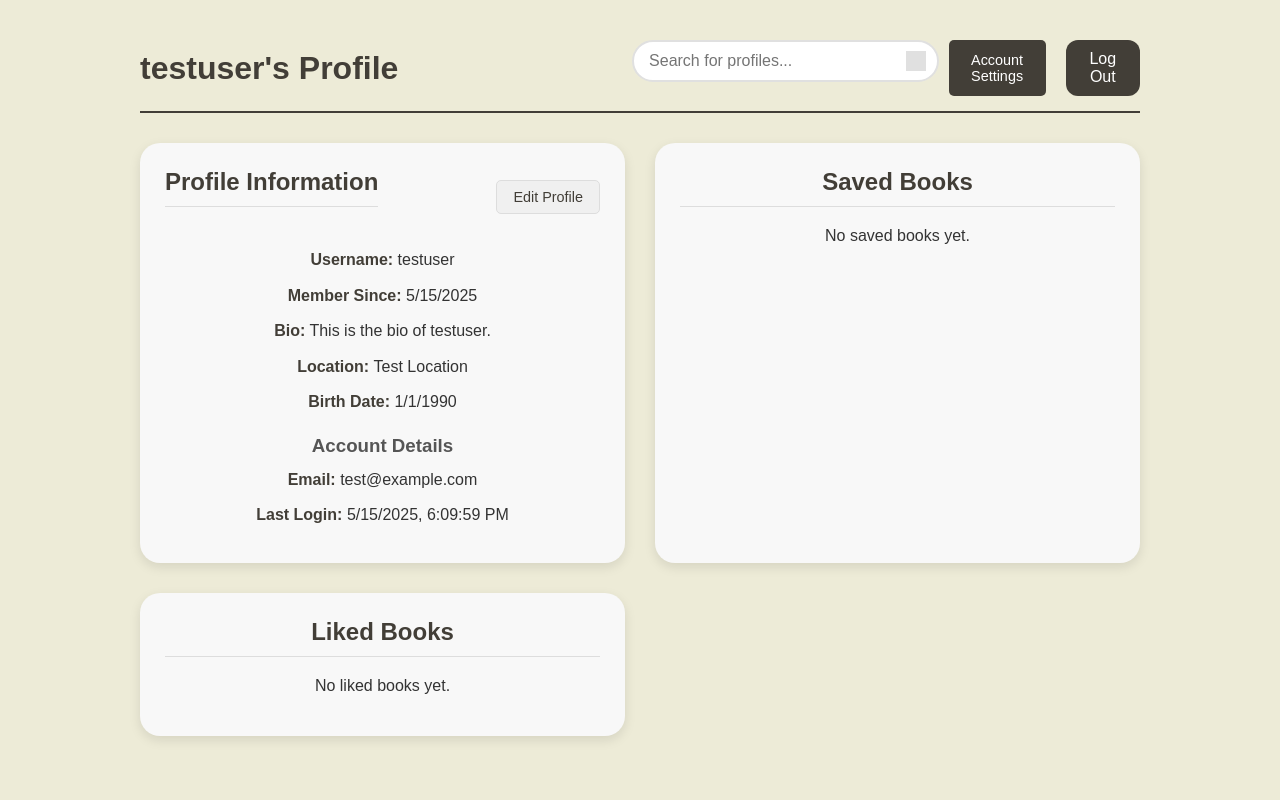
Test: ProfilePage Component - Initial Rendering › Profile Search Interaction › hides search results when clicking outside the search container
Expected: the heading "Profile Information" is shown, [165,168,378,207]
Type "another" into the field with placeholder "Search for profiles..." at coordinates (785, 61), box [632,40,938,82]
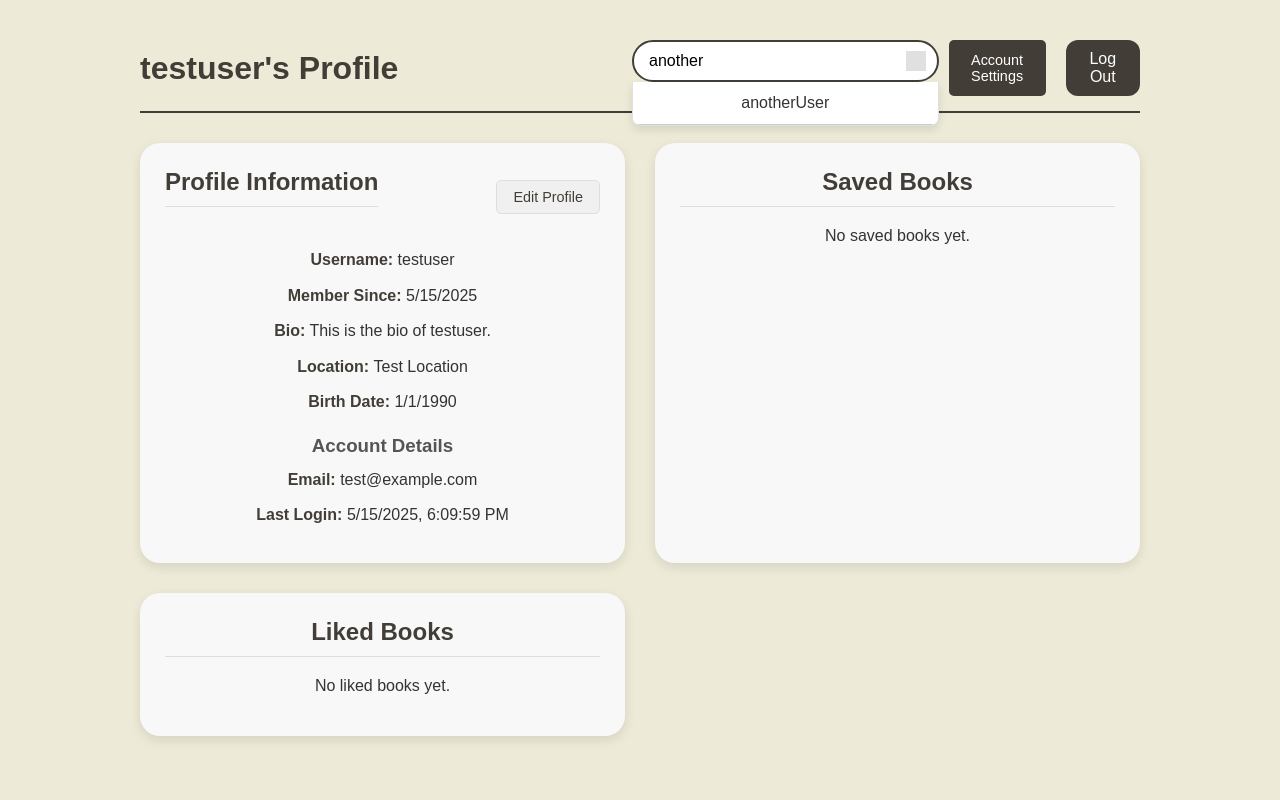
Expected: the text "anotherUser" is shown, [633,82,938,125]
Click the element showing "anotherUser" at coordinates (785, 68), box [632,40,938,96]
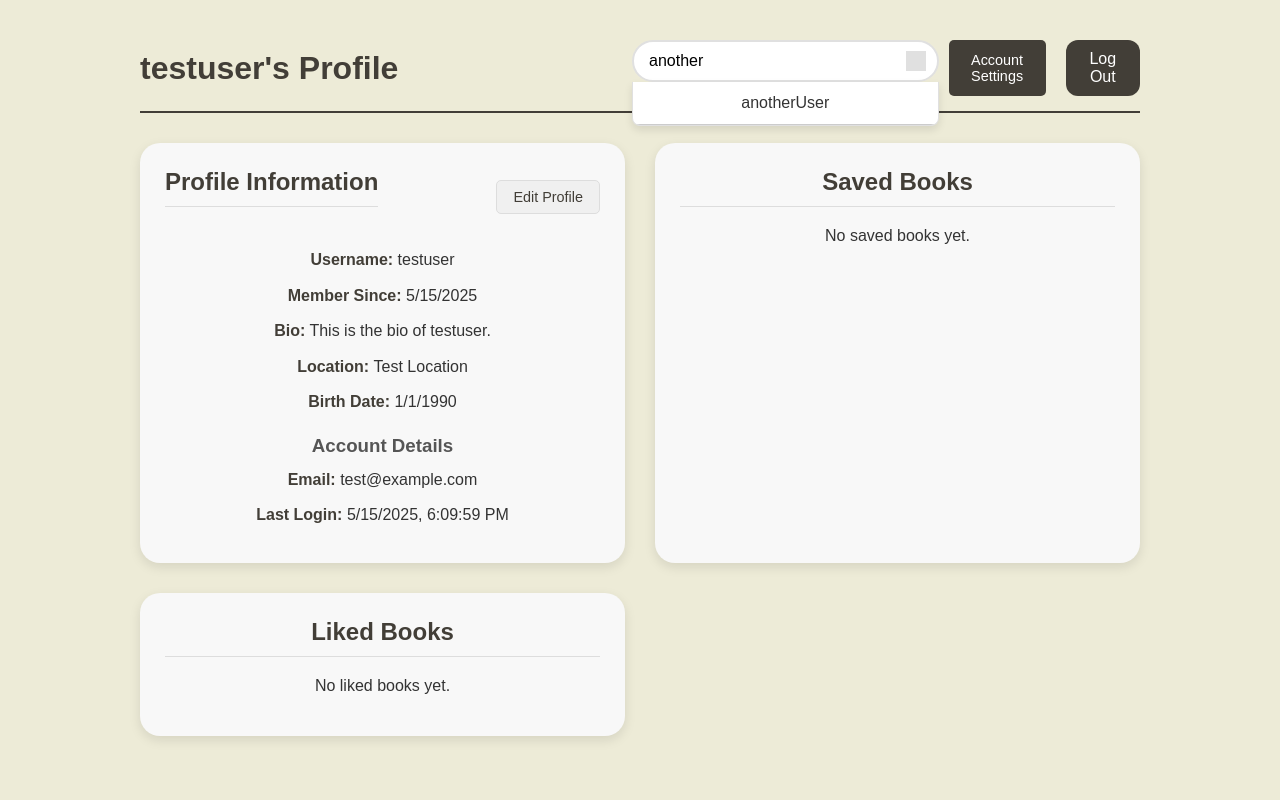
Expected: the text "anotherUser" is shown, [633,82,938,125]
Click the element that starts with "testuser" at coordinates (51, 31), box [0,0,1279,776]
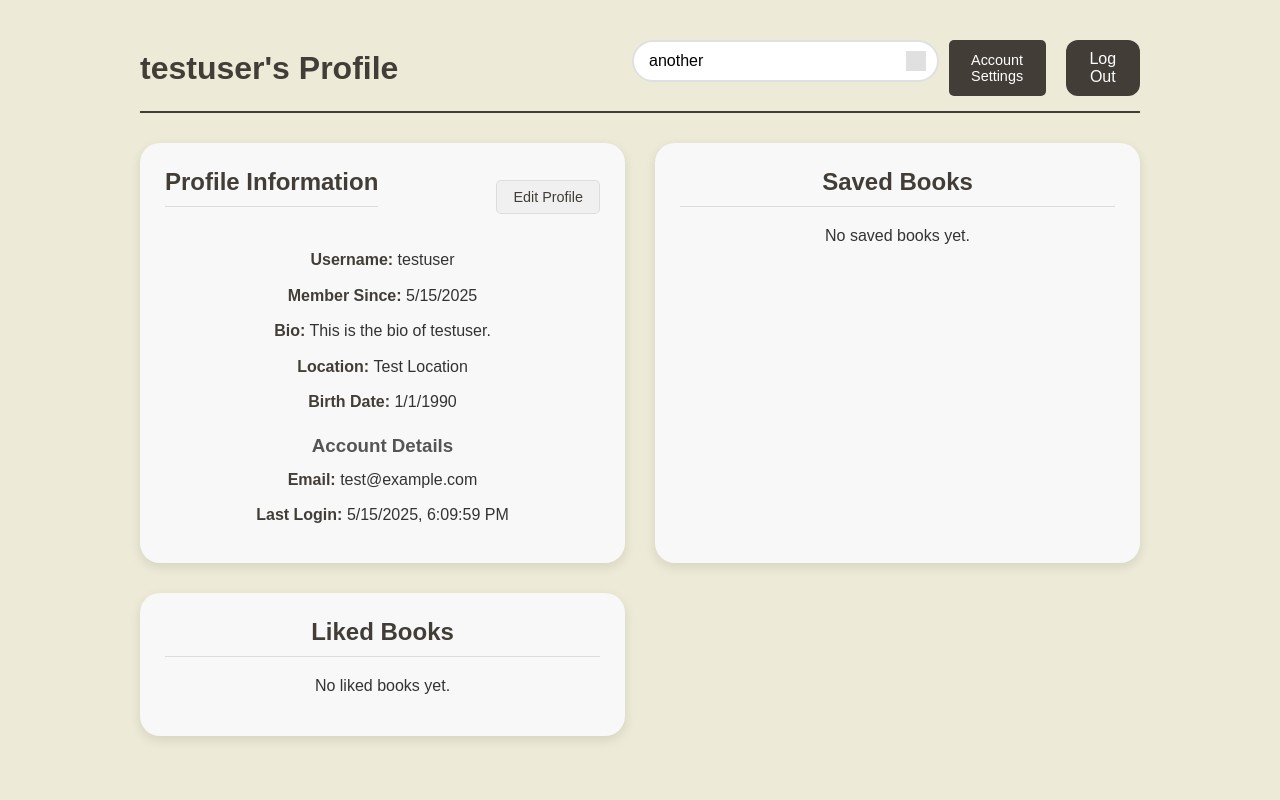
Expected: the text "anotherUser" is gone
